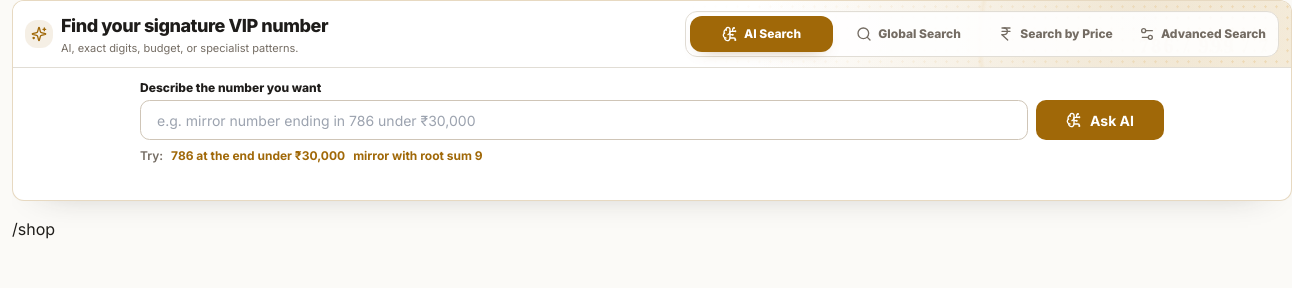
SearchWorkbench › serializes global edge matching into refreshable URL parameters
Click the tab "Global Search" at x=908, y=34, box [837,16,980,52]
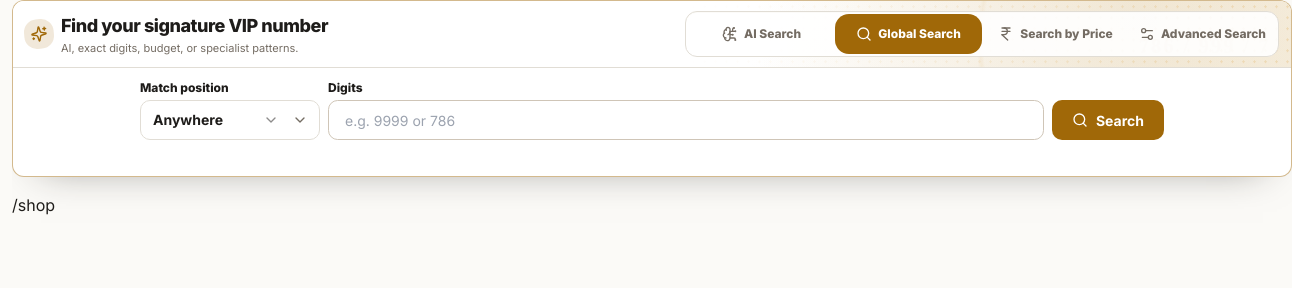
Click the dropdown named "Match position" at x=230, y=120, box [140,100,320,140]
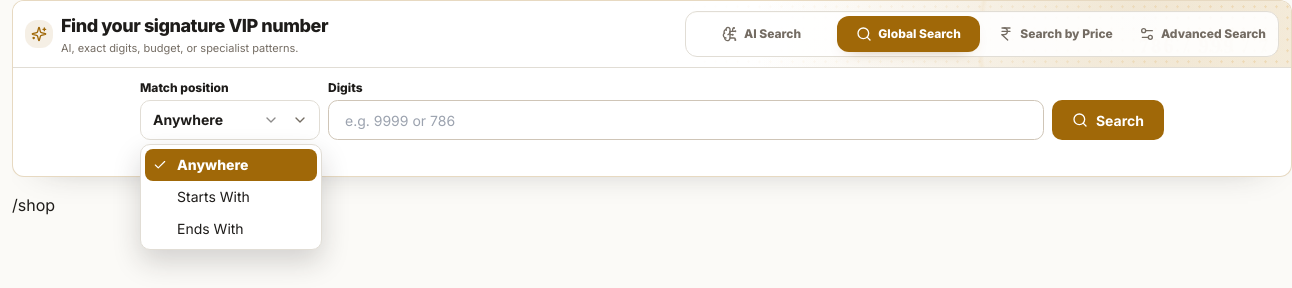
Click the option "Ends With" at x=210, y=228, box [177,220,244,237]
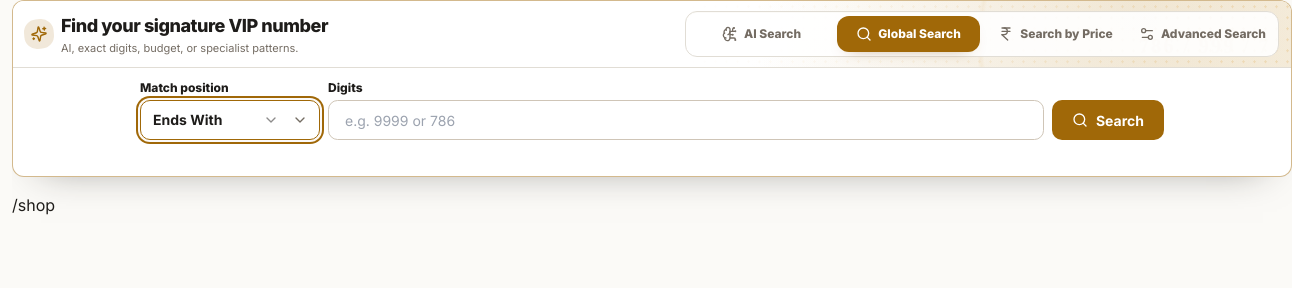
Type "786" into the field labelled "Digits" at x=686, y=120, box [328,100,1044,140]
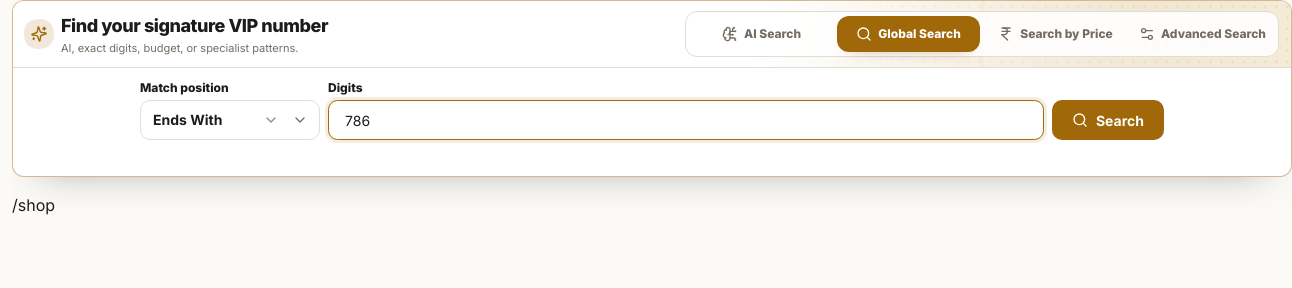
Click the button "Search" at x=1108, y=120, box [1052,100,1164,140]
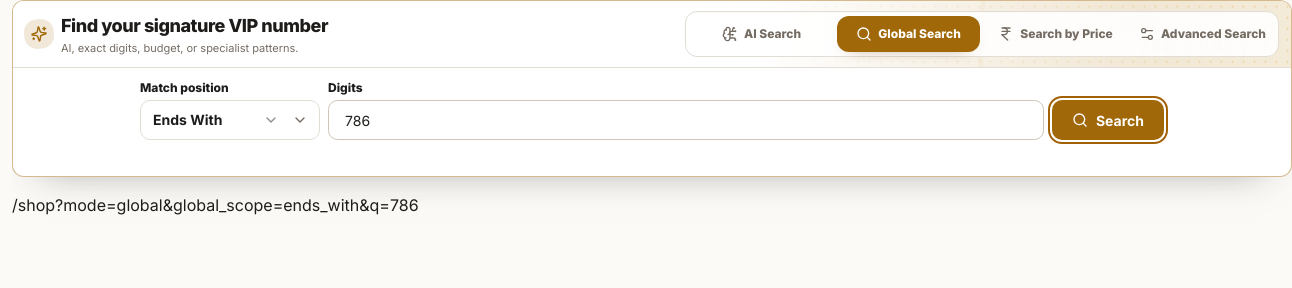
Now the text with test id "location" reads "/shop?mode=global&global_scope=ends_with&q=786", box [12,195,419,215]
